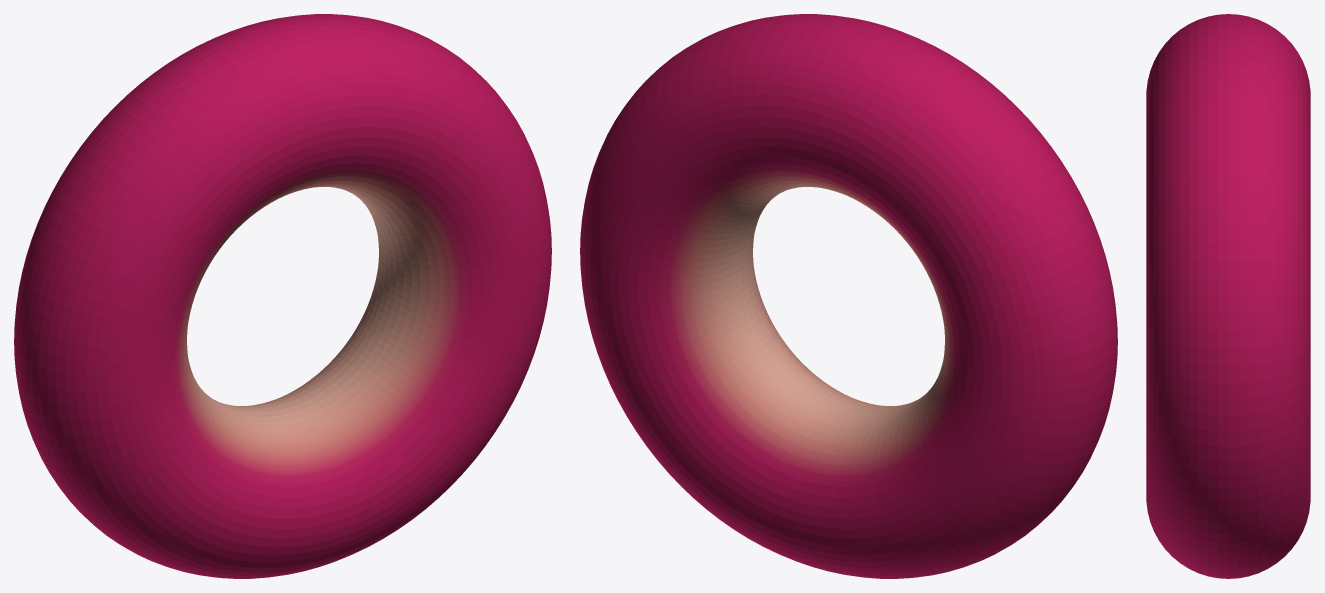
The picture shows the model from 3 angles, left to right: view 1: azimuth 30°, elevation 25°; view 2: azimuth 150°, elevation 25°; view 3: azimuth 270°, elevation 25°; orthographic projection. The views are drawn at different scales.
Parts seen in each view (by area): view 1: world; view 2: world; view 3: world.
Boxes of the visible parts, left/top/right/bottom form: world: left=14, top=14, right=551, bottom=578; world: left=580, top=14, right=1117, bottom=578; world: left=1146, top=14, right=1310, bottom=578.
Bounding box in the file's own units: 17.87 × 17.87 × 5.19.
